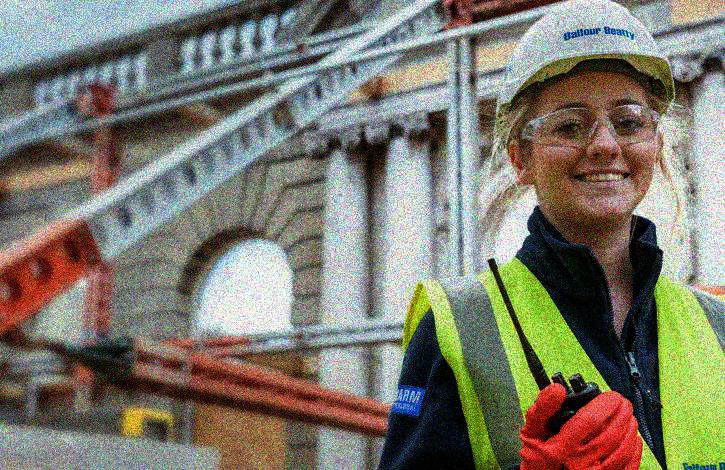helmet: (494, 1, 678, 226)
